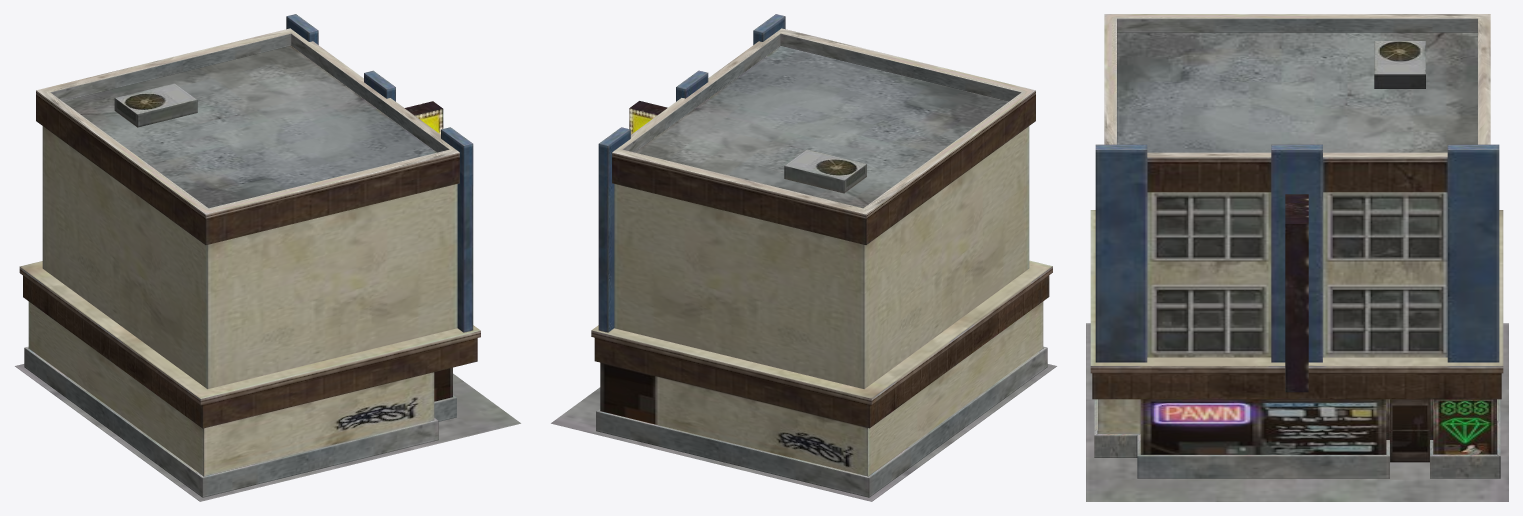
File: barber.glb
3 views of the same model, side by side, from view 1: azimuth 30°, elevation 25°; view 2: azimuth 150°, elevation 25°; view 3: azimuth 270°, elevation 25° (orthographic). The views are drawn at different scales.
Visible parts, largest first — view 1: pasted__polySurface804, pasted__pCube81, pasted__loftedSurface3, pasted__pCube90, pasted__pCube80, pasted__pCube84, pasted__BD_ConcreteBlock1, pasted__pCube85, pasted__pCube89, pasted__pCube88, pasted__pCube92; view 2: pasted__polySurface804, pasted__pCube81, pasted__loftedSurface3, pasted__pCube90, pasted__pCube80, pasted__pCube84, pasted__BD_ConcreteBlock1, pasted__pCube92, pasted__pCube89, pasted__pCube88, pasted__pCube85; view 3: pasted__polySurface804, pasted__loftedSurface3, pasted__pCube81, pasted__pCube90, pasted__BD_ConcreteBlock1, pasted__pCube85, pasted__pCube92, pasted__pCube80, pasted__pCube91, pasted__pCube84, pasted__pCube88, pasted__polySurface806 (+3 smaller).
Part boxes in pixels (left/top/right/bottom): pasted__polySurface804: left=36, top=28, right=459, bottom=244; pasted__pCube81: left=42, top=194, right=457, bottom=389; pasted__loftedSurface3: left=24, top=301, right=456, bottom=497; pasted__pCube90: left=42, top=126, right=457, bottom=314; pasted__pCube80: left=23, top=275, right=477, bottom=428; pasted__pCube84: left=19, top=261, right=480, bottom=405; pasted__BD_ConcreteBlock1: left=15, top=364, right=520, bottom=501; pasted__pCube85: left=441, top=127, right=473, bottom=332; pasted__pCube89: left=114, top=83, right=197, bottom=127; pasted__pCube88: left=405, top=101, right=443, bottom=134; pasted__pCube92: left=286, top=14, right=318, bottom=44; pasted__polySurface804: left=612, top=28, right=1035, bottom=244; pasted__pCube81: left=614, top=194, right=1029, bottom=389; pasted__loftedSurface3: left=596, top=301, right=1047, bottom=497; pasted__pCube90: left=614, top=126, right=1029, bottom=314; pasted__pCube80: left=594, top=275, right=1049, bottom=428; pasted__pCube84: left=591, top=260, right=1052, bottom=404; pasted__BD_ConcreteBlock1: left=551, top=364, right=1056, bottom=501; pasted__pCube92: left=598, top=127, right=630, bottom=332; pasted__pCube89: left=784, top=149, right=866, bottom=193; pasted__pCube88: left=629, top=101, right=667, bottom=134; pasted__pCube85: left=753, top=14, right=785, bottom=44; pasted__polySurface804: left=1104, top=14, right=1490, bottom=157; pasted__loftedSurface3: left=1094, top=399, right=1500, bottom=478; pasted__pCube81: left=1147, top=272, right=1447, bottom=357; pasted__pCube90: left=1147, top=192, right=1447, bottom=272; pasted__BD_ConcreteBlock1: left=1086, top=323, right=1508, bottom=501; pasted__pCube85: left=1095, top=144, right=1147, bottom=362; pasted__pCube92: left=1447, top=144, right=1499, bottom=362; pasted__pCube80: left=1092, top=373, right=1501, bottom=399; pasted__pCube91: left=1271, top=144, right=1322, bottom=362; pasted__pCube84: left=1090, top=210, right=1503, bottom=373; pasted__pCube88: left=1285, top=194, right=1308, bottom=392; pasted__polySurface806: left=1323, top=157, right=1447, bottom=192.
Bounding box in the file's own units: 1851 × 1538 × 1800.
Materials: 3 (3 with a texture image).
